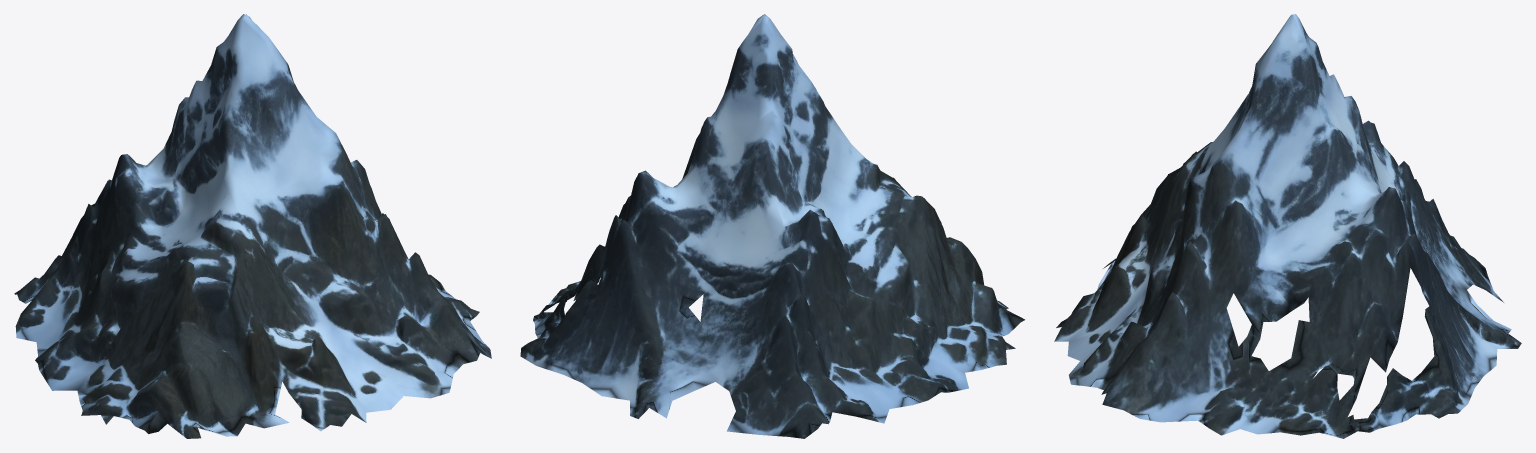
The model's file is tundra-mountain-1.glb.
3 renders of one model, left to right at view 1: azimuth 30°, elevation 25°; view 2: azimuth 150°, elevation 25°; view 3: azimuth 270°, elevation 25°, orthographic.
Visible parts, largest first — view 1: geometry_0; view 2: geometry_0; view 3: geometry_0.
Part boxes in pixels (x1,y1,x2,y2): geometry_0: (14, 14, 491, 438); geometry_0: (520, 14, 1024, 438); geometry_0: (1054, 14, 1521, 438).
Bounding box in the file's own units: 0.9658 × 0.7473 × 0.9649.
1 material, 1 textured.
